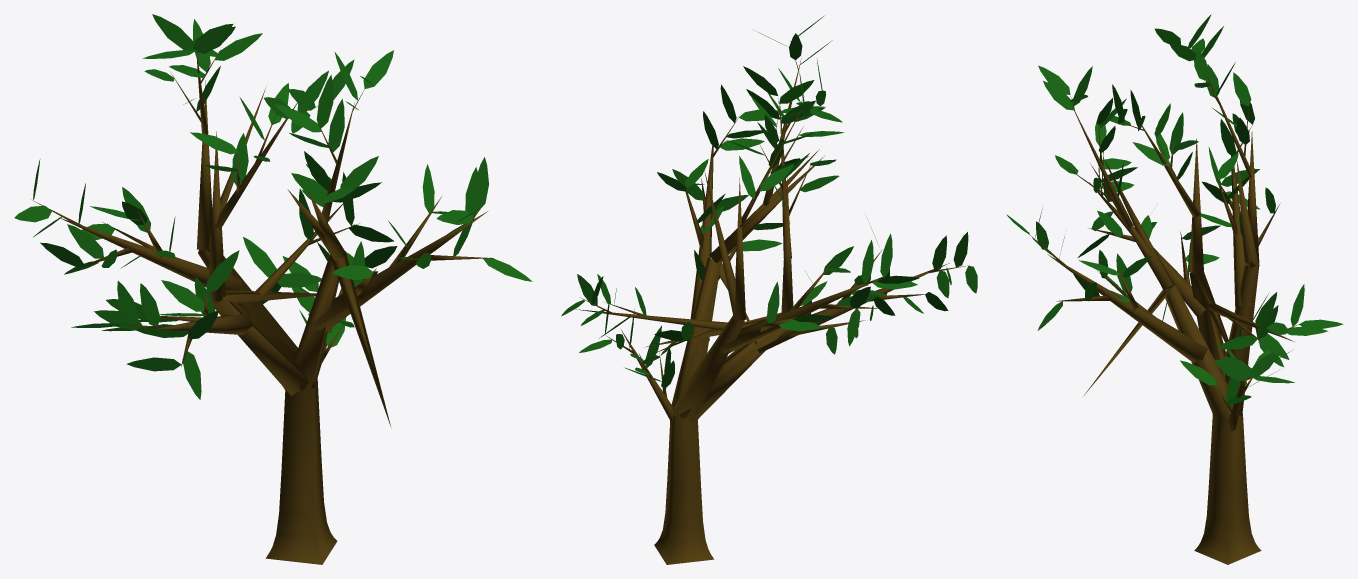
File: tree3.obj
3 views of the same model, side by side, from view 1: azimuth 30°, elevation 25°; view 2: azimuth 150°, elevation 25°; view 3: azimuth 270°, elevation 25° (orthographic). The views are drawn at different scales.
Visible parts, largest first — view 1: tree3.001_stems, tree3_leaves; view 2: tree3.001_stems, tree3_leaves; view 3: tree3.001_stems, tree3_leaves.
Boxes of the visible parts, <box> form: tree3.001_stems: <box>32,49,493,564</box>; tree3_leaves: <box>14,14,532,399</box>; tree3.001_stems: <box>576,58,969,564</box>; tree3_leaves: <box>561,15,977,391</box>; tree3.001_stems: <box>1028,52,1301,564</box>; tree3_leaves: <box>1006,14,1343,404</box>.
Size of the model in its own units: 77.33 by 107 by 68.82.
